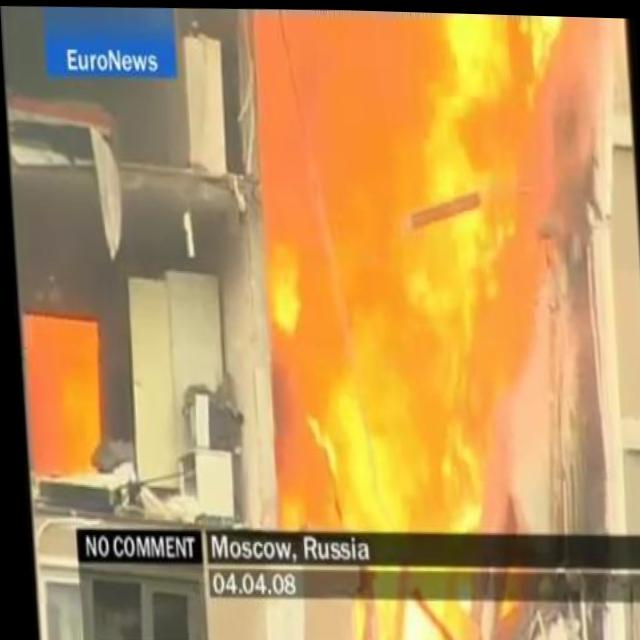fire: (249, 6, 635, 538), (18, 309, 100, 482)
